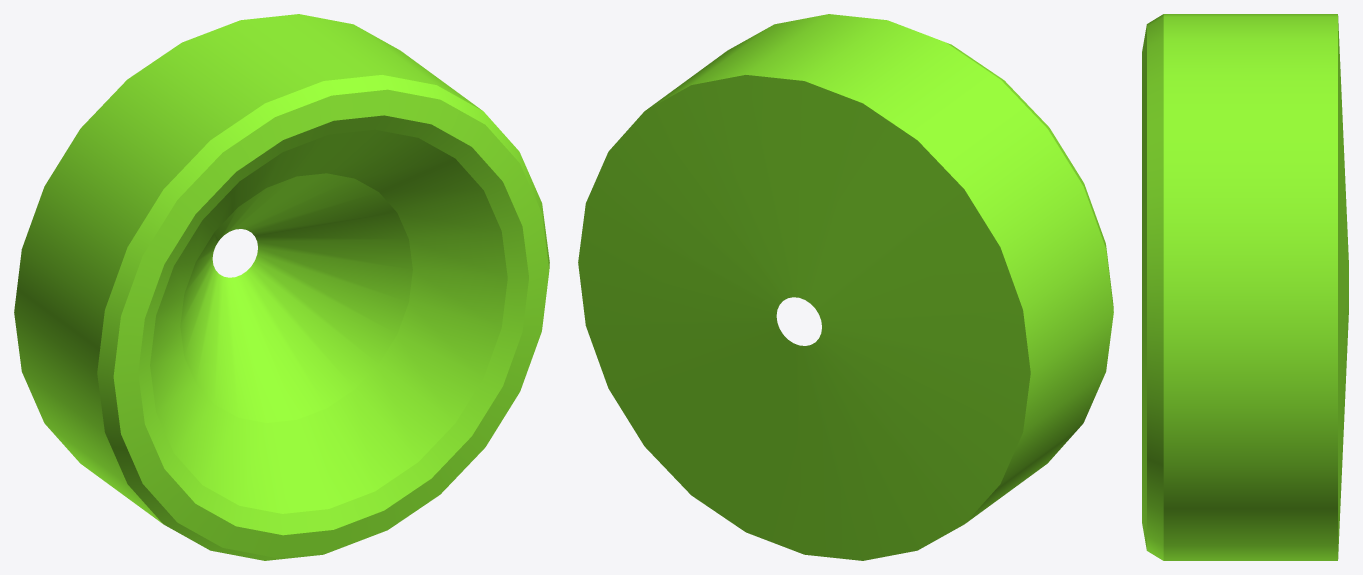
Rendered from Car-Alien-Wheel.FBX.
3 renders of one model, left to right at view 1: azimuth 30°, elevation 25°; view 2: azimuth 150°, elevation 25°; view 3: azimuth 270°, elevation 25°, orthographic. The views are drawn at different scales.
Parts seen in each view (by area): view 1: Car-Alien-Tire; view 2: Car-Alien-Tire; view 3: Car-Alien-Tire.
Boxes of the visible parts, <box> form: Car-Alien-Tire: <box>14,14,549,560</box>; Car-Alien-Tire: <box>578,14,1113,560</box>; Car-Alien-Tire: <box>1142,14,1348,560</box>.
Size of the model in its own units: 89.96 by 89.96 by 33.86.
